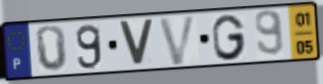0: (34, 24, 69, 74)
9: (253, 9, 286, 61), (74, 23, 103, 71)
G: (210, 13, 248, 63)
V: (156, 14, 199, 68), (116, 18, 156, 68)
